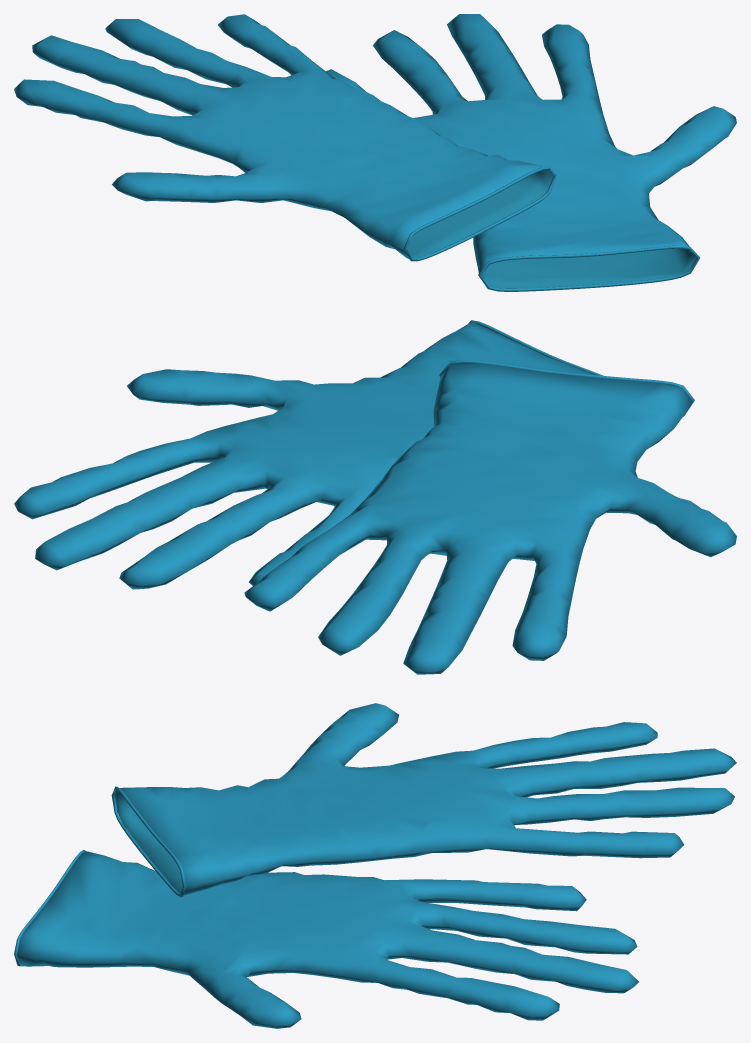
The model's file is FirstAid_MedicalGloves.glb.
3 renders of one model, top to bottom at view 1: azimuth 30°, elevation 25°; view 2: azimuth 150°, elevation 25°; view 3: azimuth 270°, elevation 25°, orthographic. The views are drawn at different scales.
Parts seen in each view (by area): view 1: MedicalGlove_L, MedicalGlove_R; view 2: MedicalGlove_L, MedicalGlove_R; view 3: MedicalGlove_R, MedicalGlove_L.
Boxes of the visible parts, <box> form: MedicalGlove_L: <box>14,14,556,261</box>; MedicalGlove_R: <box>326,14,736,291</box>; MedicalGlove_L: <box>244,360,736,674</box>; MedicalGlove_R: <box>14,320,603,589</box>; MedicalGlove_R: <box>14,850,638,1028</box>; MedicalGlove_L: <box>111,703,736,897</box>.
Bounding box in the file's own units: 0.2501 × 0.0314 × 0.2664.
